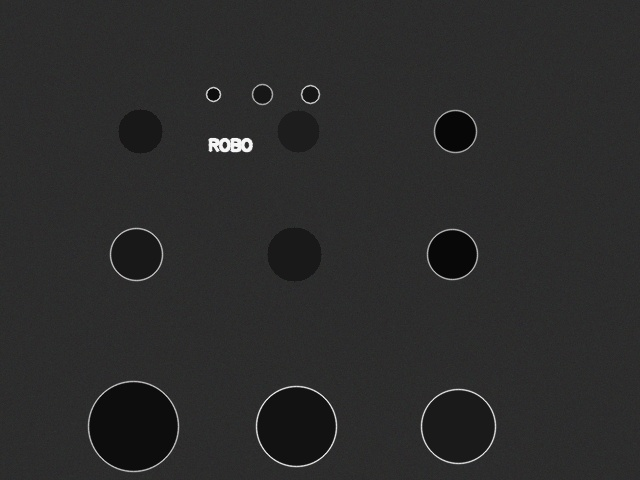hole: (88, 381, 178, 471), (256, 386, 336, 466), (421, 389, 495, 463), (267, 227, 321, 281), (110, 228, 162, 280), (427, 229, 477, 279), (118, 109, 162, 153), (277, 110, 319, 152), (434, 110, 476, 152), (252, 84, 272, 104), (301, 85, 319, 103), (206, 87, 220, 101)
